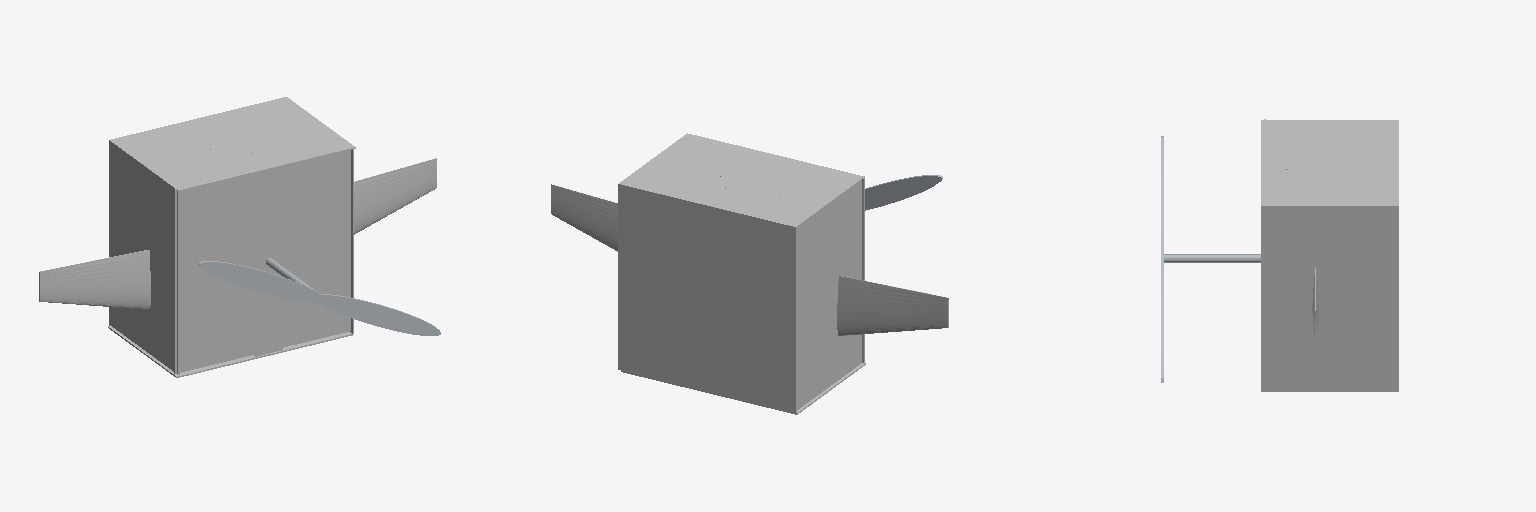
File: tinker 4.obj
The picture shows the model from 3 angles: view 1: azimuth 30°, elevation 25°; view 2: azimuth 150°, elevation 25°; view 3: azimuth 270°, elevation 25°; orthographic projection.
Parts seen in each view (by area): view 1: obj_0; view 2: obj_0; view 3: obj_0.
Boxes of the visible parts, x1=… form: obj_0: x1=39, y1=97, x2=440, y2=377; obj_0: x1=551, y1=133, x2=948, y2=414; obj_0: x1=1161, y1=119, x2=1398, y2=391.
Bounding box in the file's own units: 275 × 128 × 143.